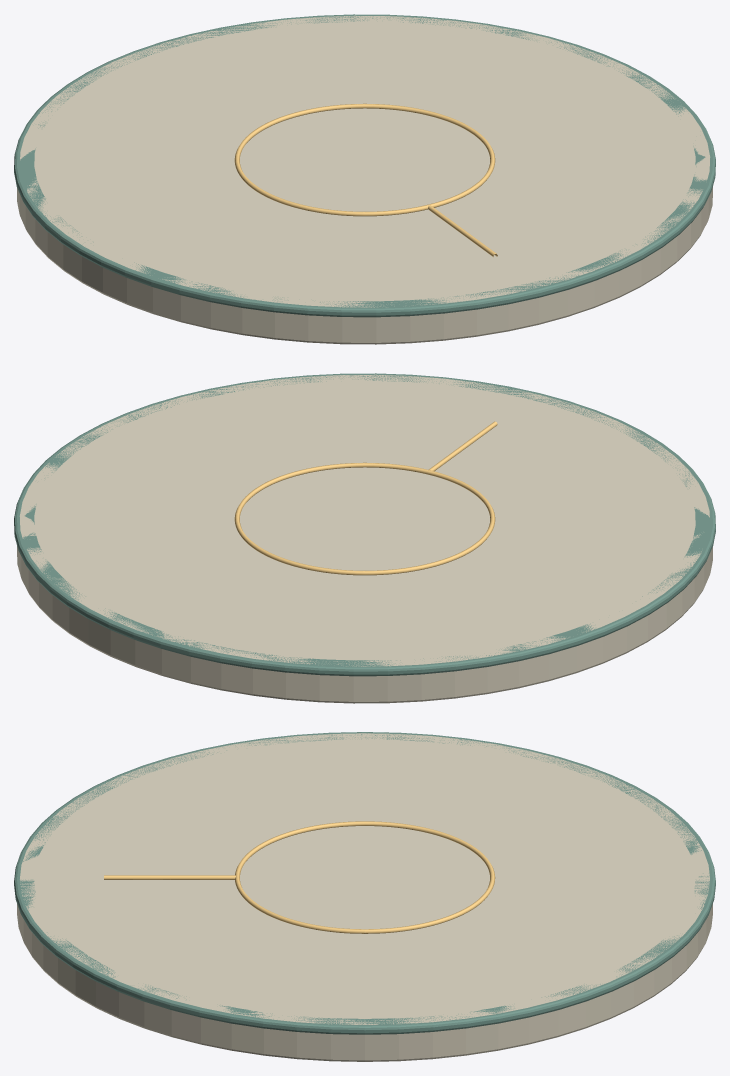
File: lift.glb
3 renders of one model, top to bottom at view 1: azimuth 30°, elevation 25°; view 2: azimuth 150°, elevation 25°; view 3: azimuth 270°, elevation 25°, orthographic.
Visible parts, largest first — view 1: lift; view 2: lift; view 3: lift.
Part boxes in pixels (x1,y1,x2,y2): lift: (14, 14, 715, 344); lift: (14, 373, 715, 703); lift: (14, 732, 715, 1061).
Bounding box in the file's own units: 12.1 × 0.764 × 12.1.
